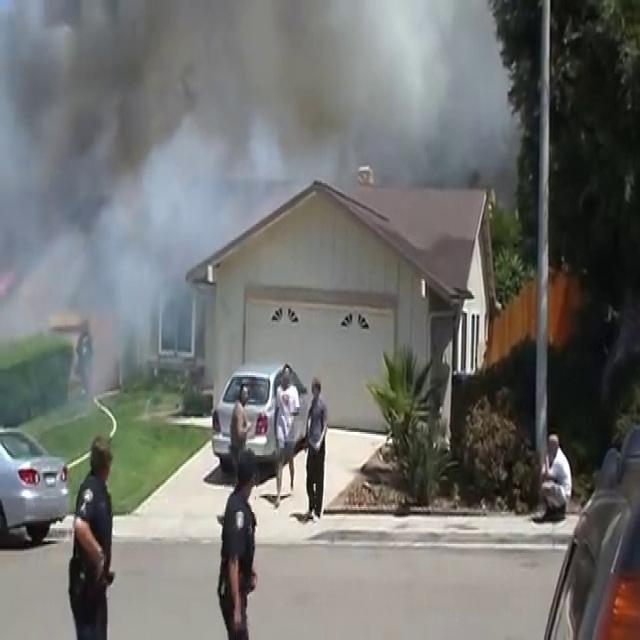Smoke: (0, 0, 517, 236)
